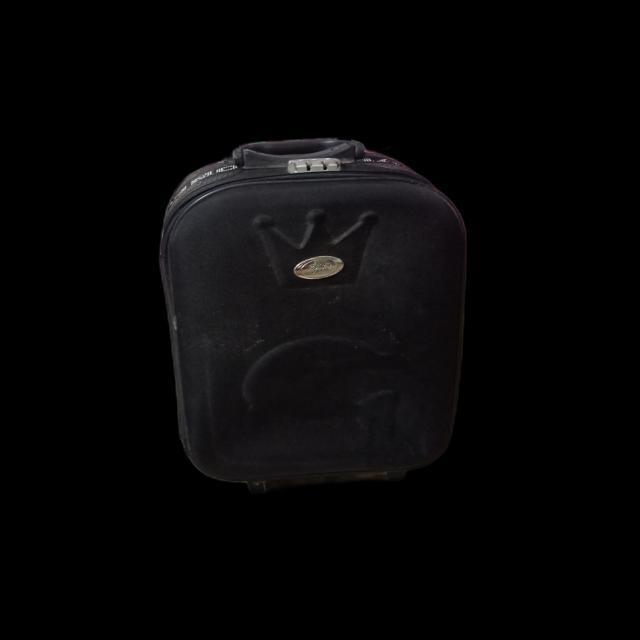Suitcase: (153, 129, 492, 509)
